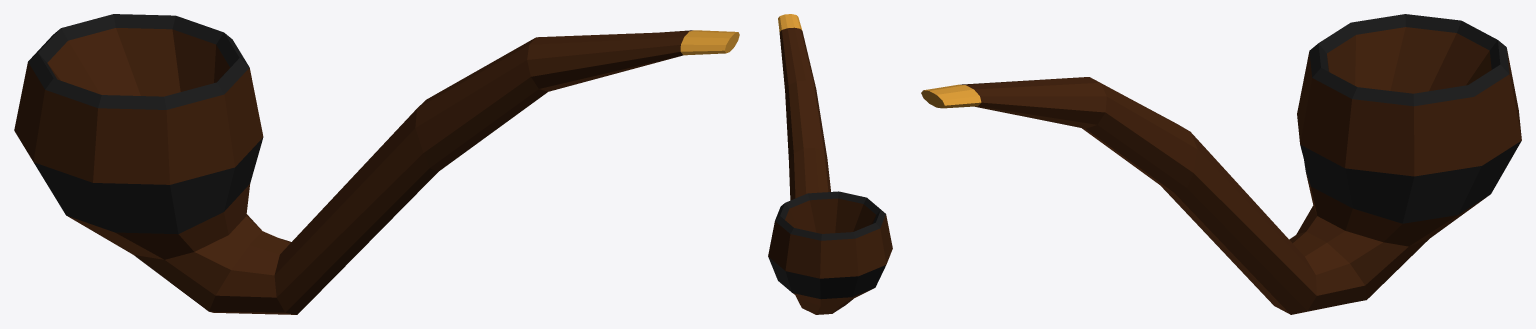
File: pipe.fbx
3 views of the same model, side by side, from view 1: azimuth 30°, elevation 25°; view 2: azimuth 150°, elevation 25°; view 3: azimuth 270°, elevation 25° (orthographic). The views are drawn at different scales.
Parts seen in each view (by area): view 1: pipe; view 2: pipe; view 3: pipe.
Part boxes in pixels (x1,y1,x2,y2): pipe: [14, 14, 739, 314]; pipe: [768, 14, 892, 314]; pipe: [921, 14, 1521, 314].
Bounding box in the file's own units: 10.68 × 8 × 12.92.
